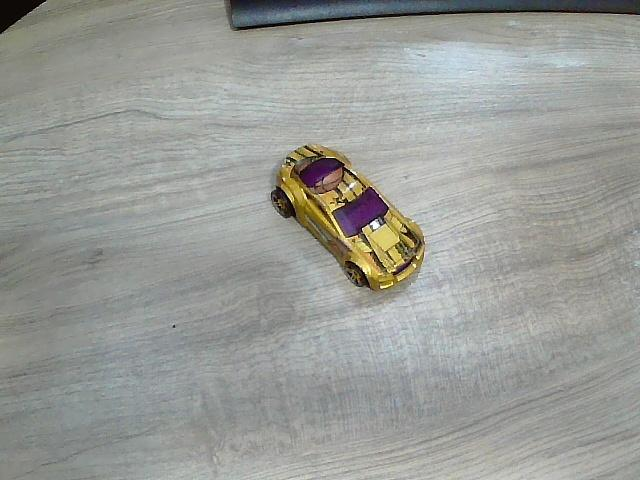Carro: (272, 145, 426, 292)
